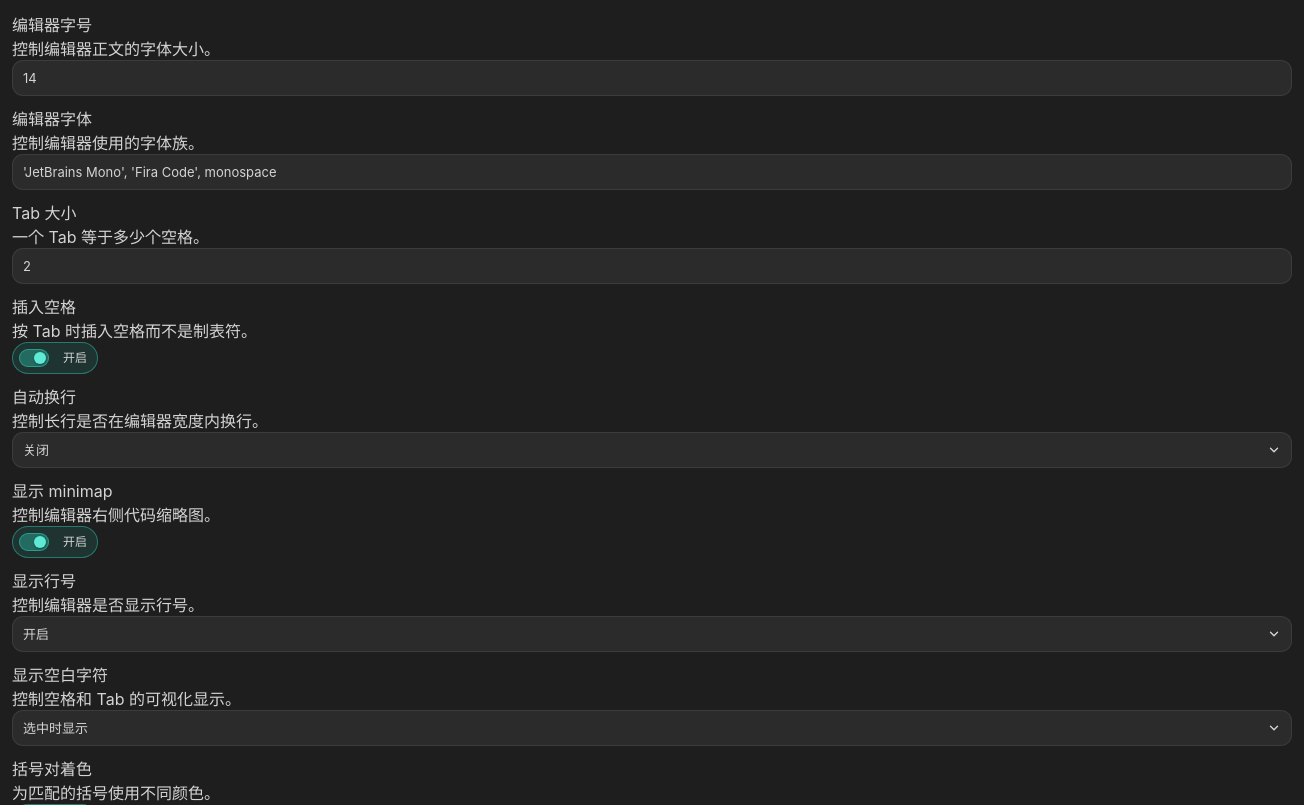
Test case: SchemaSettingsSection › writes toggles back to workspace scope when a workspace override is active
Step 1. Click the switch named "插入空格" → {"x": 55, "y": 358}, box [12, 342, 98, 374]
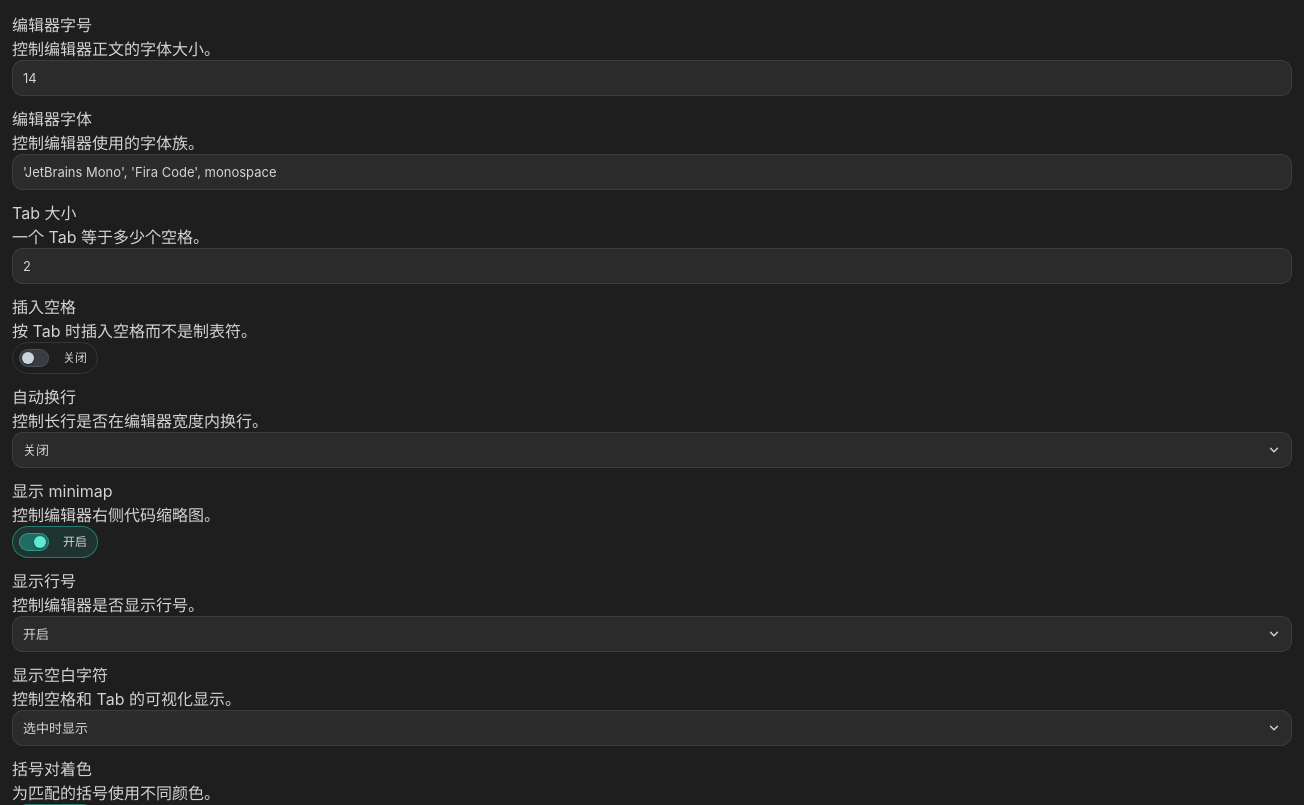
Expected: the switch named "插入空格" reads "关闭", [12, 342, 98, 374]
